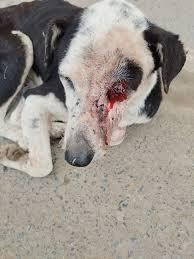bleeding: (100, 70, 129, 121)
